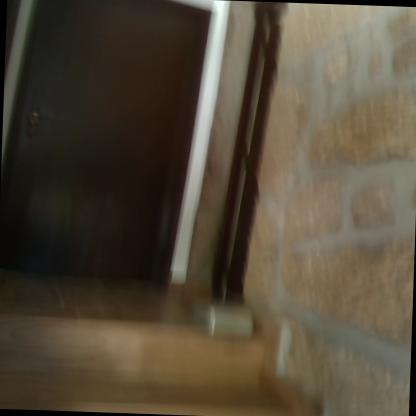closed: (0, 0, 232, 307)
